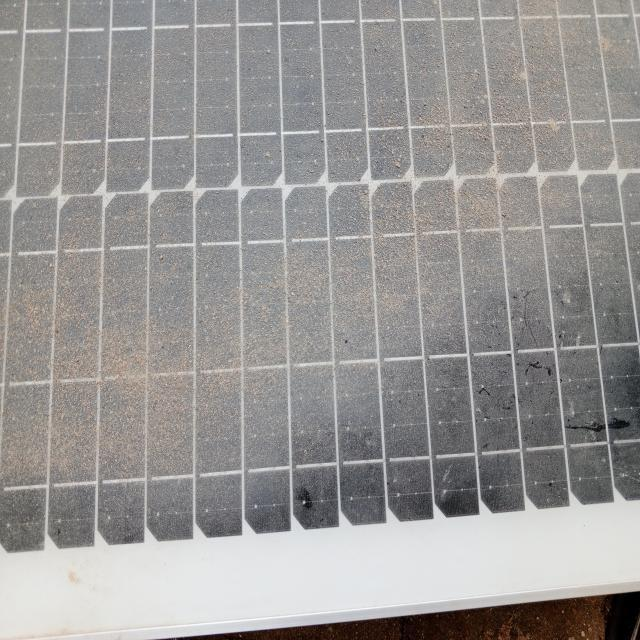Anomaly Solar Panel: (3, 5, 637, 546)
Surface Contaminant: (7, 6, 639, 534)
